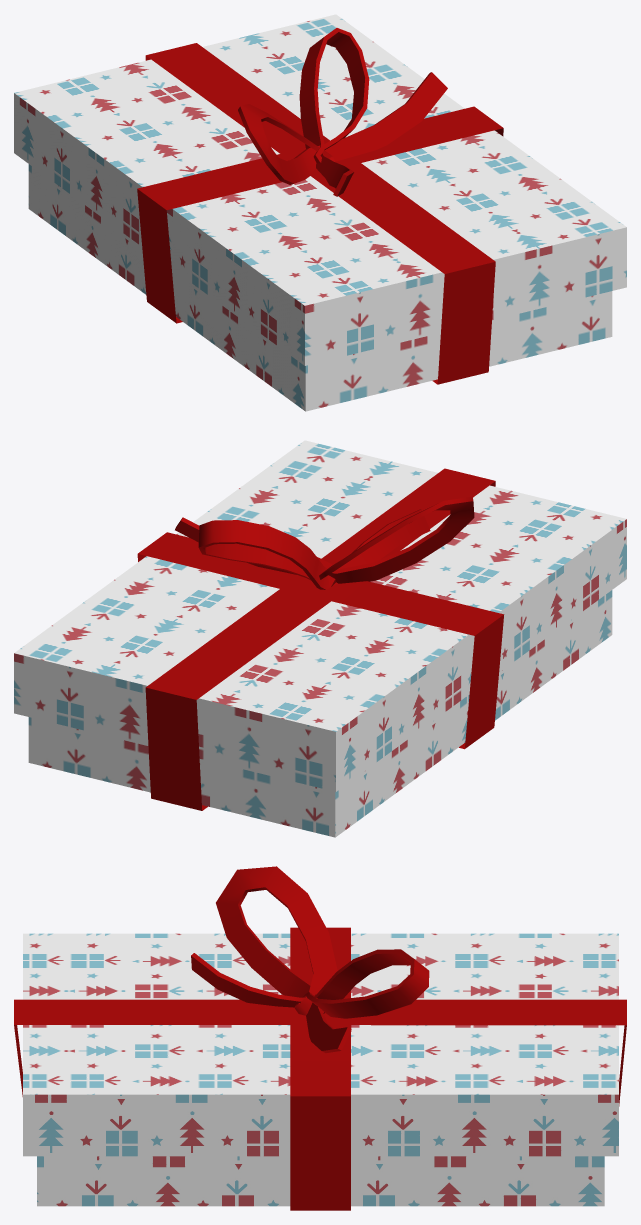
Rendered from gift 02 ribbon01.fbx.
3 views of the same model, one above another, from view 1: azimuth 30°, elevation 25°; view 2: azimuth 150°, elevation 25°; view 3: azimuth 270°, elevation 25° (orthographic). The views are drawn at different scales.
Visible parts, largest first — view 1: gift, ribbon_01, Gift02; view 2: gift, ribbon_01, Gift02; view 3: gift, ribbon_01, Gift02.
Part boxes in pixels (x1,y1,x2,y2): gift: (14, 14, 626, 411); ribbon_01: (137, 43, 503, 384); Gift02: (238, 28, 447, 196); gift: (14, 440, 626, 837); ribbon_01: (137, 468, 504, 810); Gift02: (175, 496, 474, 589); gift: (23, 933, 618, 1206); ribbon_01: (14, 927, 626, 1210); Gift02: (191, 866, 429, 1052).
Bounding box in the file's own units: 32.96 × 19.47 × 50.66.
2 materials, 1 textured.
